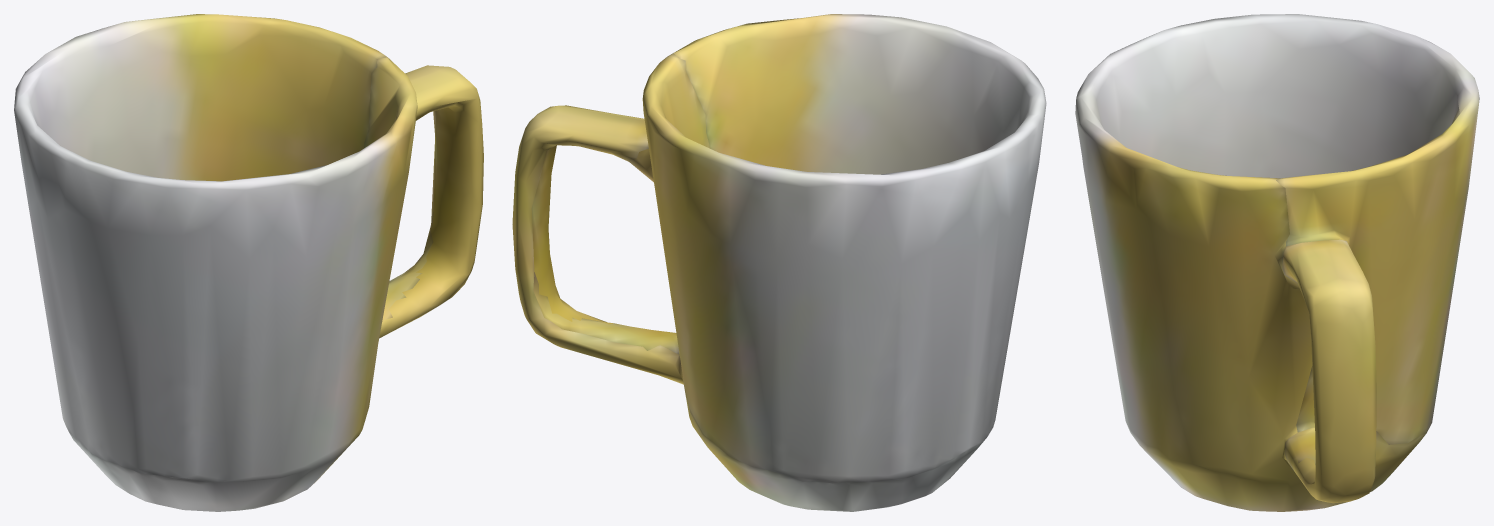
File: Room_Essentials_Mug_White_Yellow-medium.glb
The picture shows the model from 3 angles, left to right: view 1: azimuth 30°, elevation 25°; view 2: azimuth 150°, elevation 25°; view 3: azimuth 270°, elevation 25°; orthographic projection.
Visible parts, largest first — view 1: Room_Essentials_Mug_White_Yellow; view 2: Room_Essentials_Mug_White_Yellow; view 3: Room_Essentials_Mug_White_Yellow.
Boxes of the visible parts, x1=… form: Room_Essentials_Mug_White_Yellow: x1=14, y1=14, x2=483, y2=511; Room_Essentials_Mug_White_Yellow: x1=512, y1=14, x2=1046, y2=511; Room_Essentials_Mug_White_Yellow: x1=1075, y1=14, x2=1479, y2=511.
Bounding box in the file's own units: 0.1368 × 0.1047 × 0.1021.
1 material, 1 textured.
